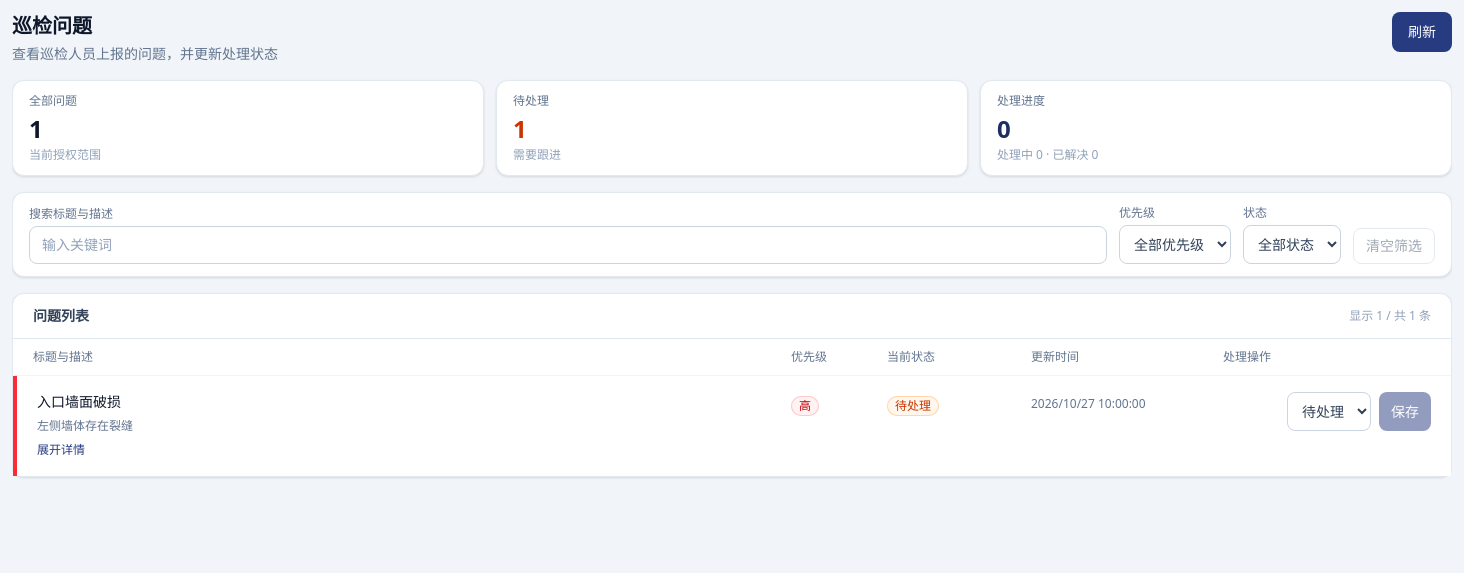
Test: 并发与时序 › 刷新失败保留旧列表并提示可能不是最新数据，可重试
The image size is (1464, 573).
Expected: the heading "入口墙面破损" is shown, [37, 392, 121, 411]
Click the button "刷新" at [1422, 32], box [1392, 12, 1452, 52]
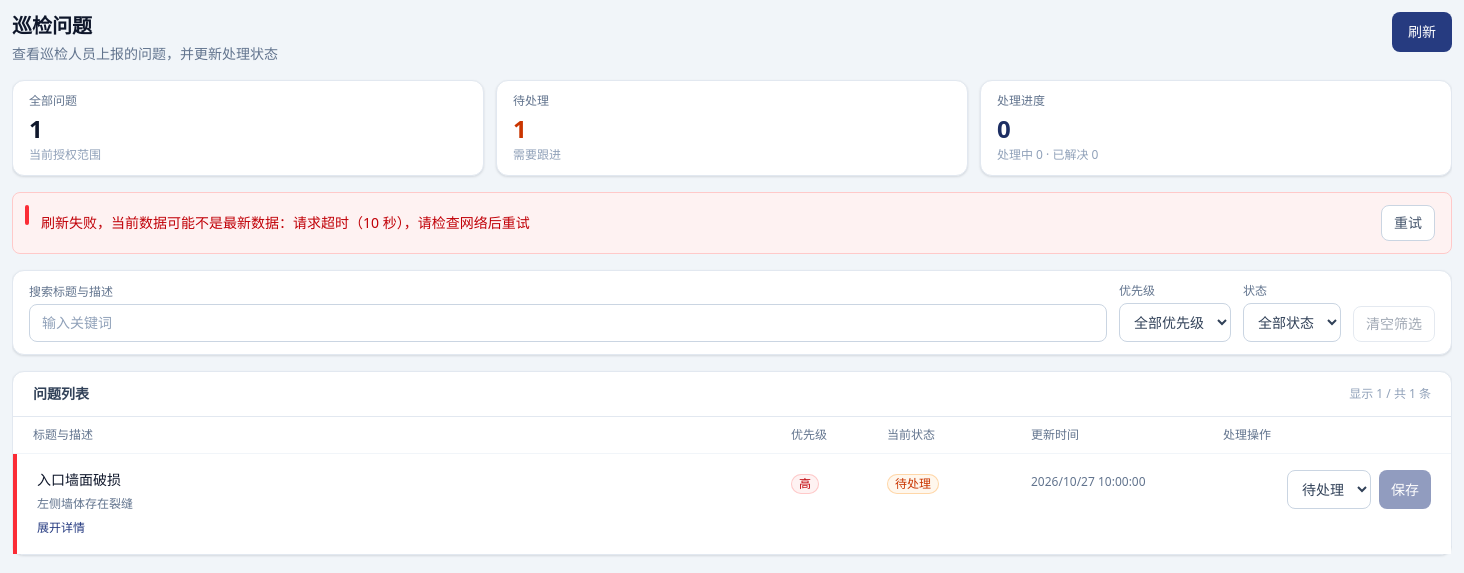
Expected: the heading "入口墙面破损" is shown, [37, 470, 121, 489]
Expected: the text "刷新失败，当前数据可能不是最新数据：请求超时（10 秒），请检查网络后重试" is shown, [41, 213, 530, 232]
Click the button "重试" at [1408, 223], box [1381, 205, 1435, 241]
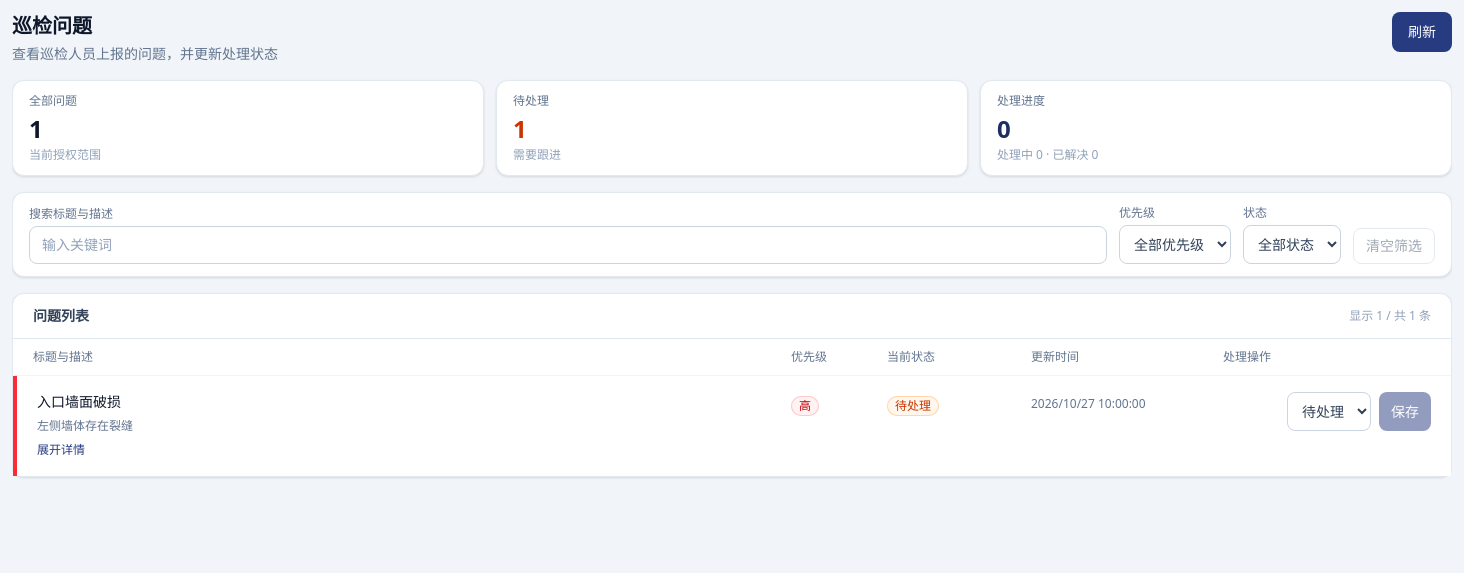
Expected: the text "刷新失败" is gone
